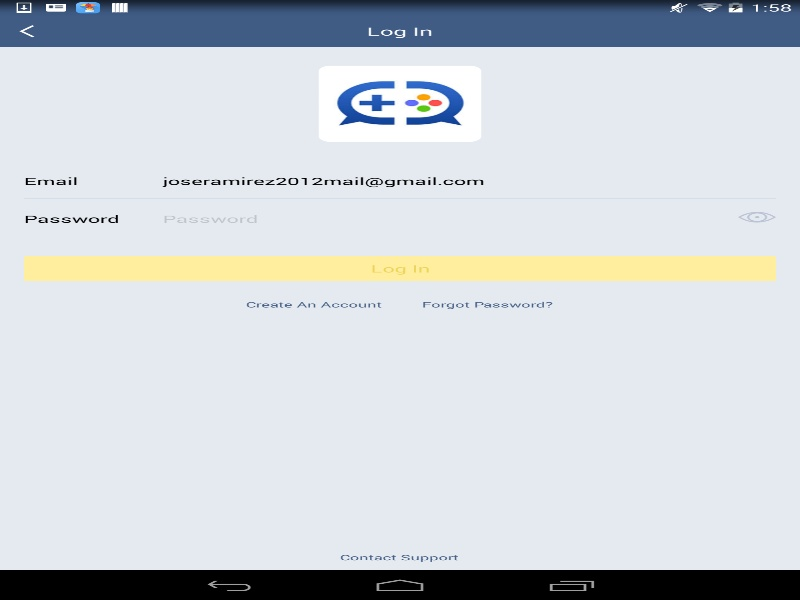Button: (24, 256, 776, 281)
Input: (162, 168, 776, 189), (162, 206, 738, 227)
